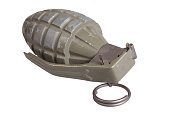e1: (22, 8, 138, 105)
